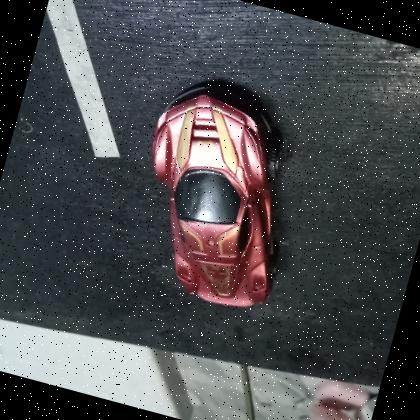Car: (113, 72, 323, 320)
